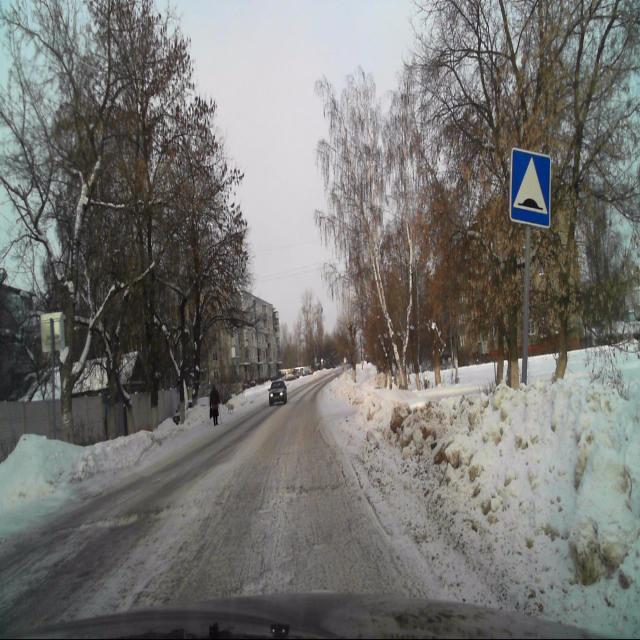object: (520, 227, 531, 385)
road sign: (510, 146, 550, 229)
